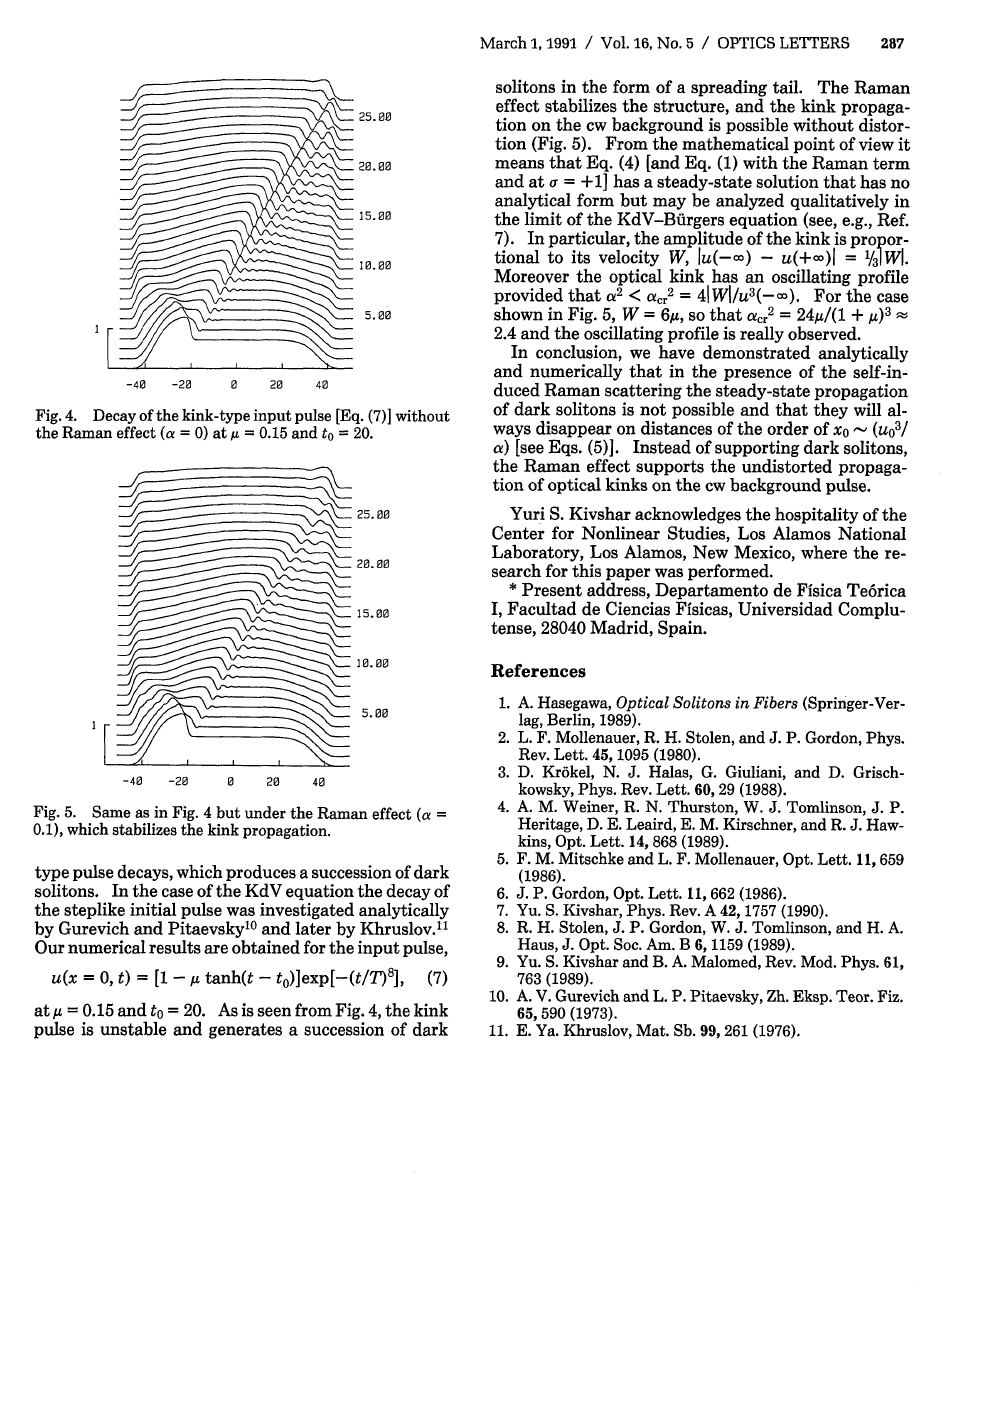figure: (92, 466, 389, 786), (95, 79, 391, 388)
formula: (52, 965, 447, 988)
